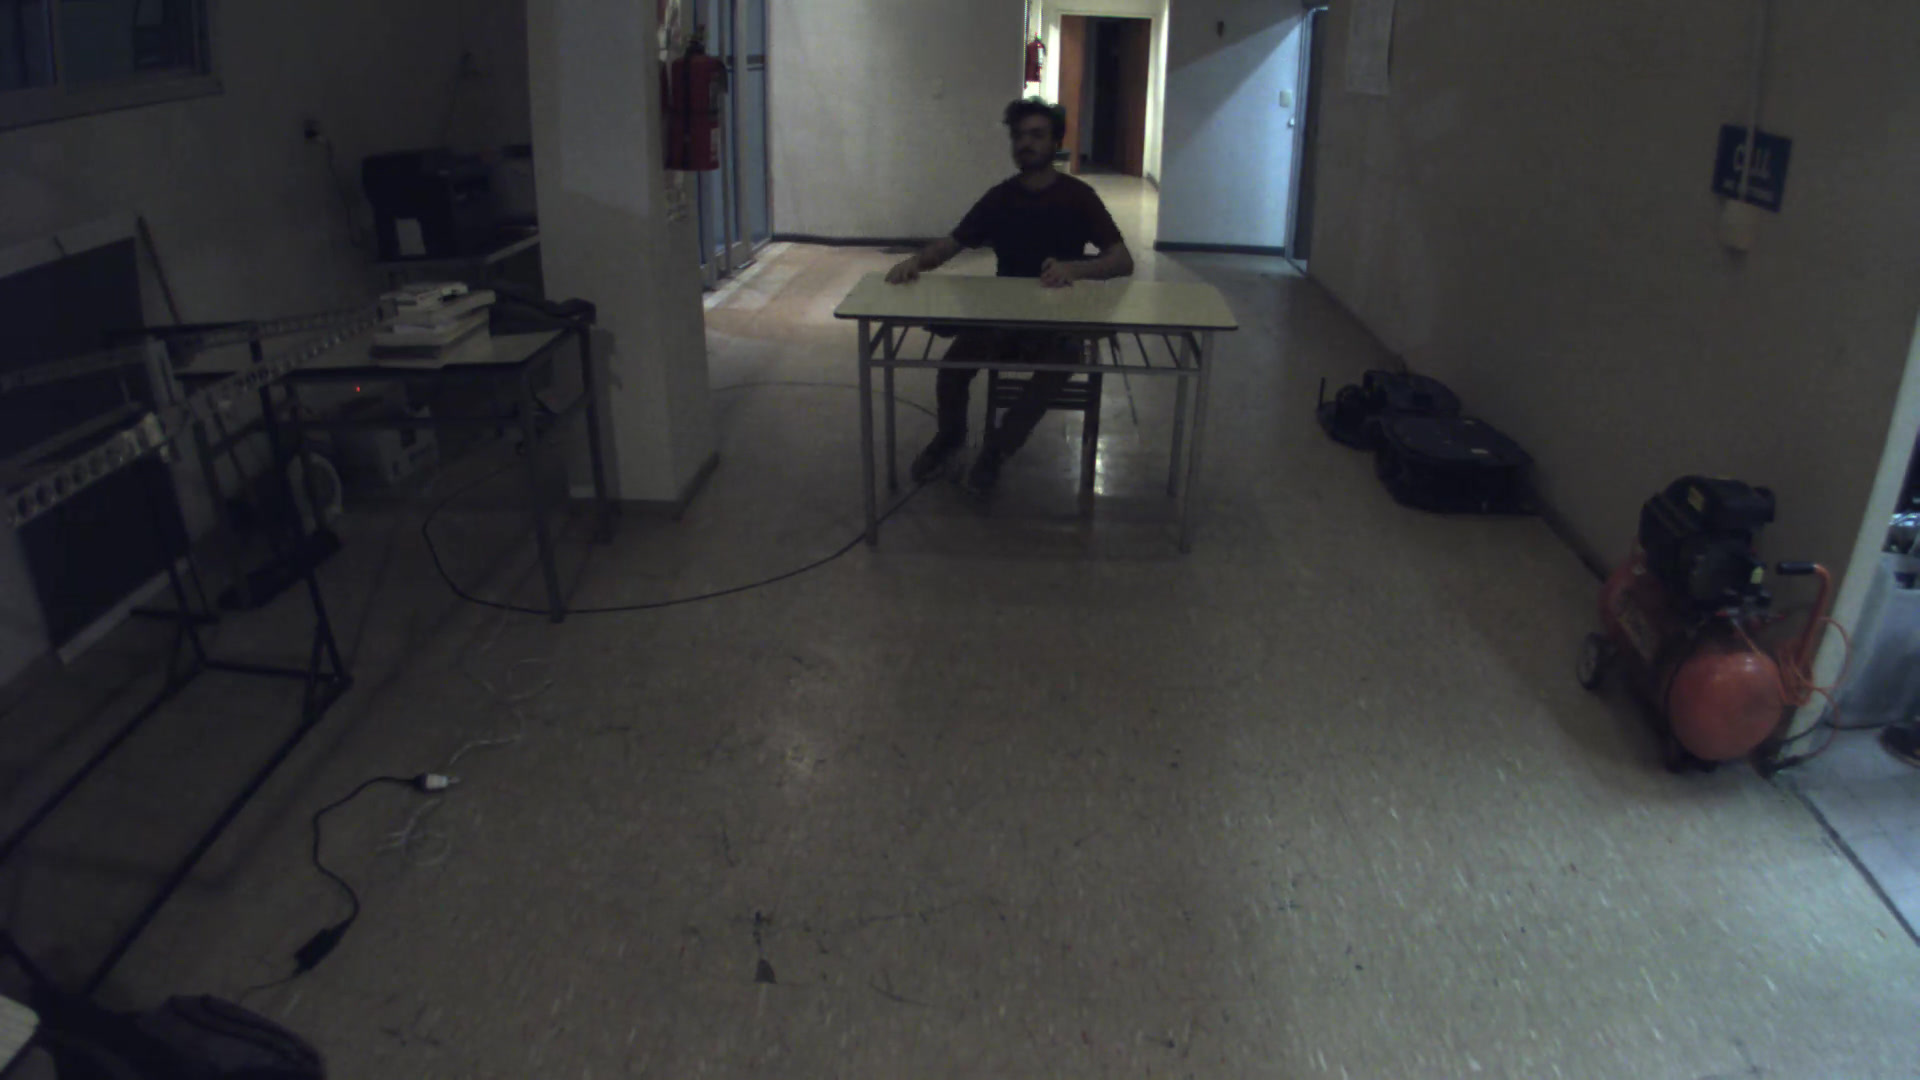hand: (1031, 248, 1091, 294), (877, 253, 934, 289)
